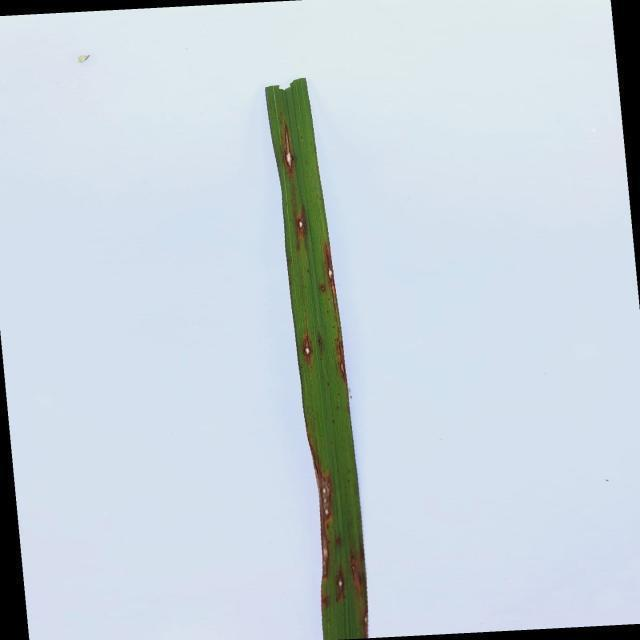Leaf_Blast: (283, 123, 298, 176), (320, 531, 333, 582), (301, 332, 314, 363), (335, 570, 347, 602), (295, 211, 307, 240), (337, 344, 347, 378), (361, 608, 369, 631), (318, 482, 330, 497), (324, 264, 334, 282), (321, 507, 334, 520), (321, 496, 329, 506), (350, 563, 358, 571), (320, 284, 327, 293)
